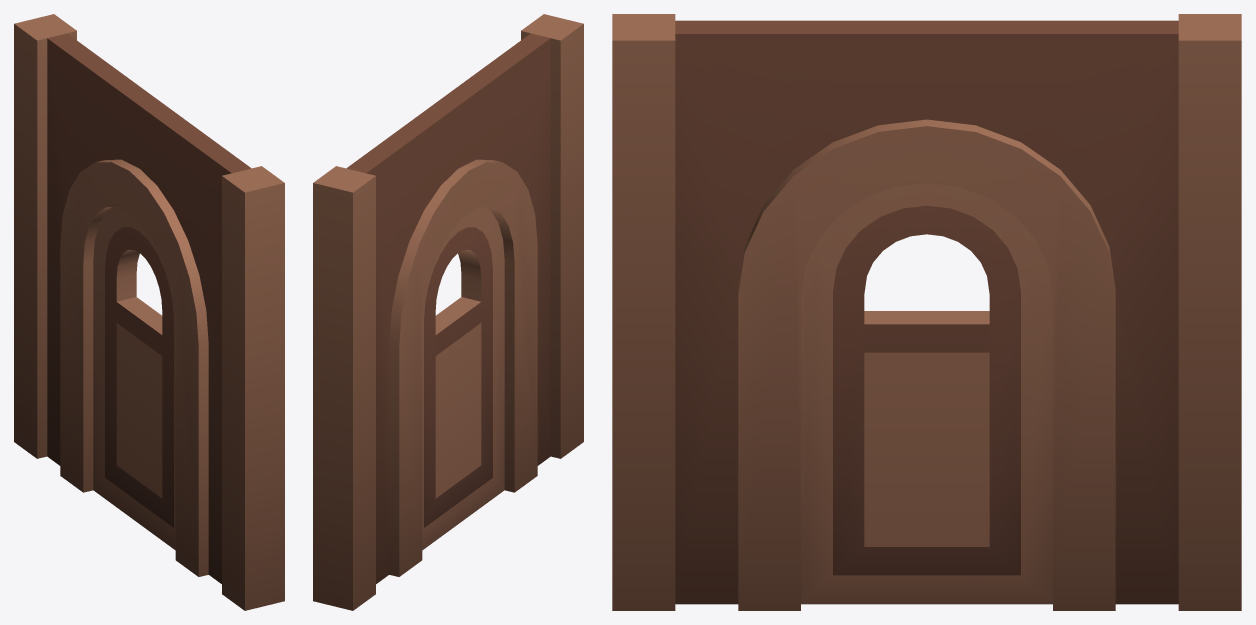
File: wall-wood-door.glb
The picture shows the model from 3 angles, left to right: view 1: azimuth 30°, elevation 25°; view 2: azimuth 150°, elevation 25°; view 3: azimuth 270°, elevation 25°; orthographic projection. The views are drawn at different scales.
Parts seen in each view (by area): view 1: wall-wood-door; view 2: wall-wood-door; view 3: wall-wood-door.
Part boxes in pixels (x1,y1,x2,y2): wall-wood-door: (14,14,284,610); wall-wood-door: (313,14,583,610); wall-wood-door: (612,14,1241,610).
Size of the model in its own units: 0.2999 by 3 by 3.
